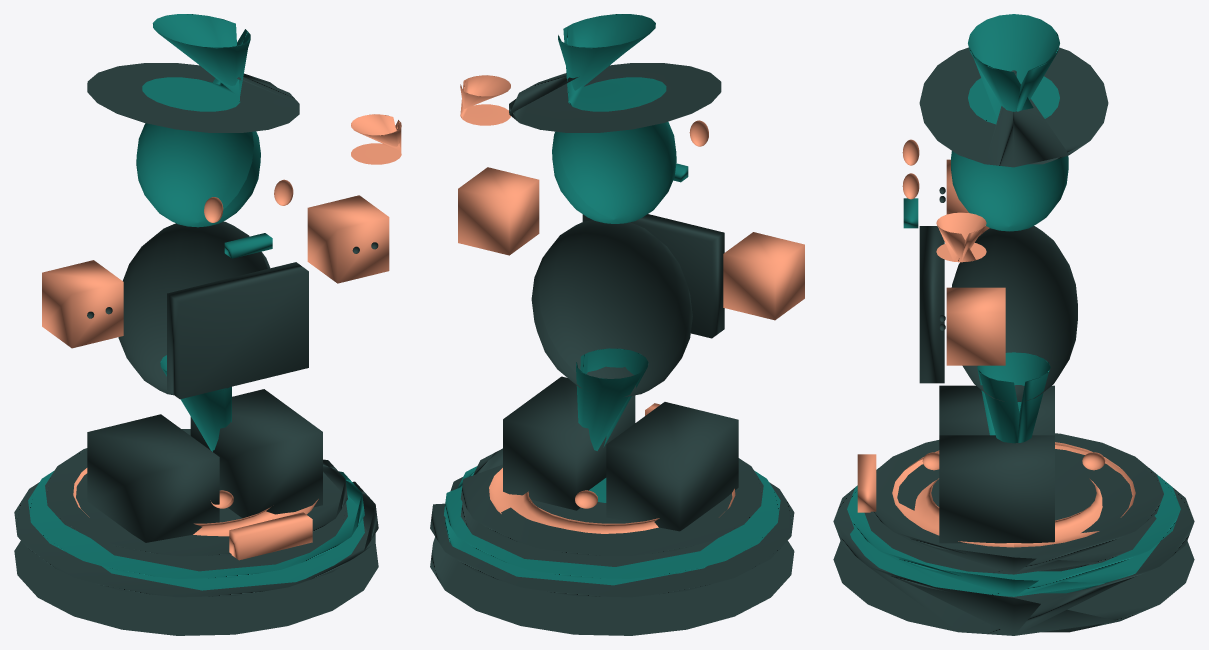
The model's file is roll_safe.glb.
3 renders of one model, left to right at view 1: azimuth 30°, elevation 25°; view 2: azimuth 150°, elevation 25°; view 3: azimuth 270°, elevation 25°, orthographic.
Parts seen in each view (by area): view 1: roll_safe_#263D3C, roll_safe_#0F766E, roll_safe_#FEA07A; view 2: roll_safe_#263D3C, roll_safe_#0F766E, roll_safe_#FEA07A; view 3: roll_safe_#263D3C, roll_safe_#0F766E, roll_safe_#FEA07A.
Part boxes in pixels (x1,y1,x2,y2): roll_safe_#263D3C: (14,63,378,635); roll_safe_#0F766E: (28,14,364,590); roll_safe_#FEA07A: (42,114,401,560); roll_safe_#263D3C: (430,63,794,635); roll_safe_#0F766E: (444,14,780,585); roll_safe_#FEA07A: (458,75,804,533); roll_safe_#263D3C: (833,47,1194,635); roll_safe_#0F766E: (847,14,1180,596); roll_safe_#FEA07A: (857,139,1135,547).
Size of the model in its own units: 1.81 by 2.77 by 1.72.
